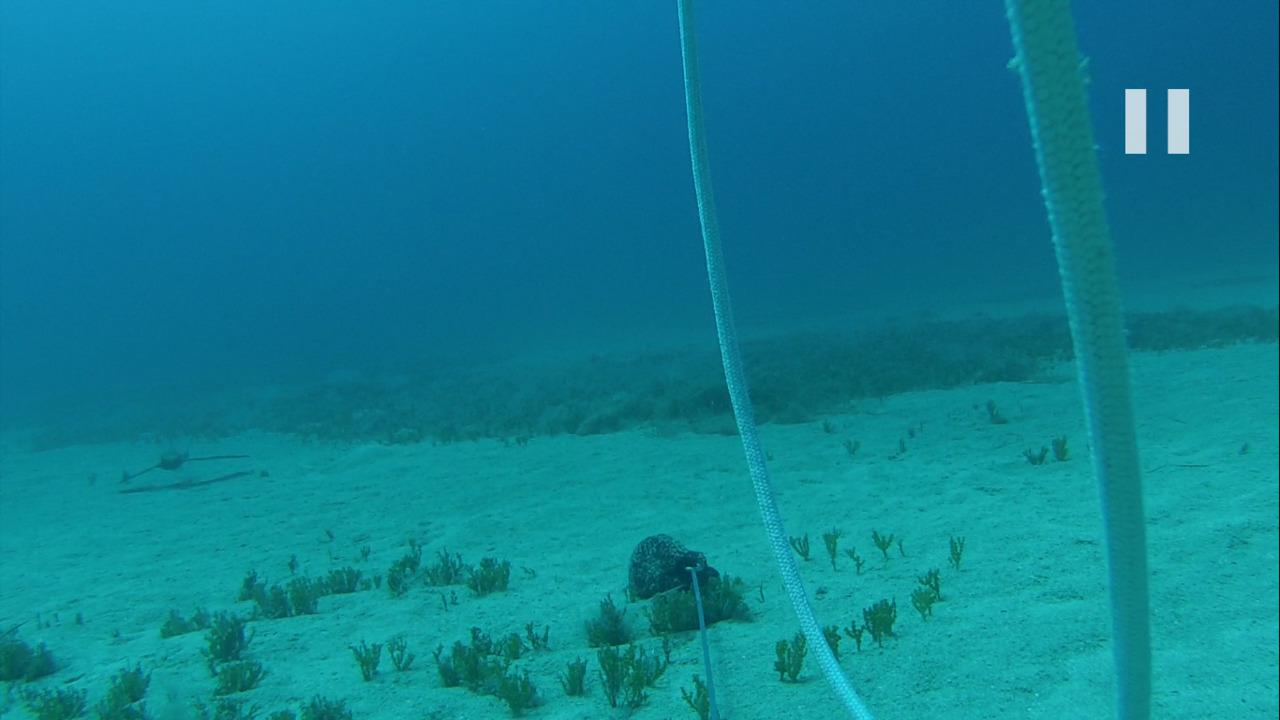dactylopterus: (116, 445, 248, 478)
